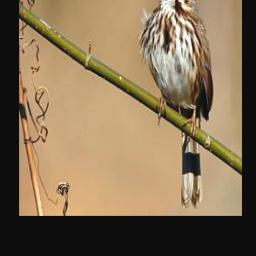Sparrow: (138, 0, 214, 209)
